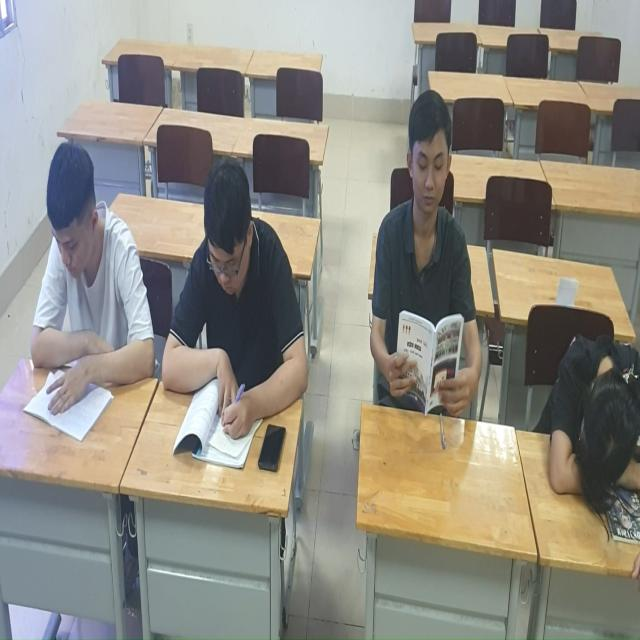read: (151, 140, 297, 467), (363, 106, 487, 470), (26, 139, 144, 446)
sleep: (544, 327, 640, 523)
